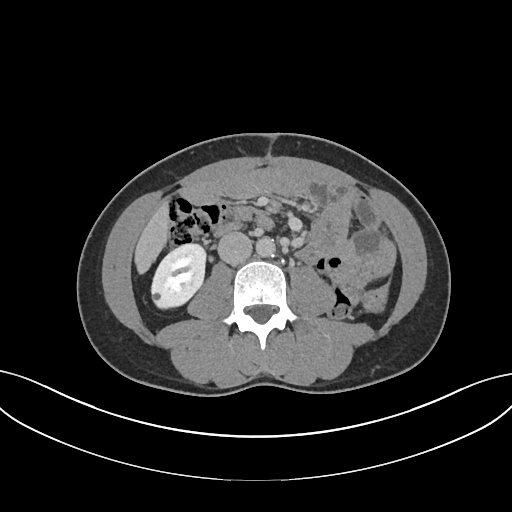Lesion: (149, 290, 166, 305)
